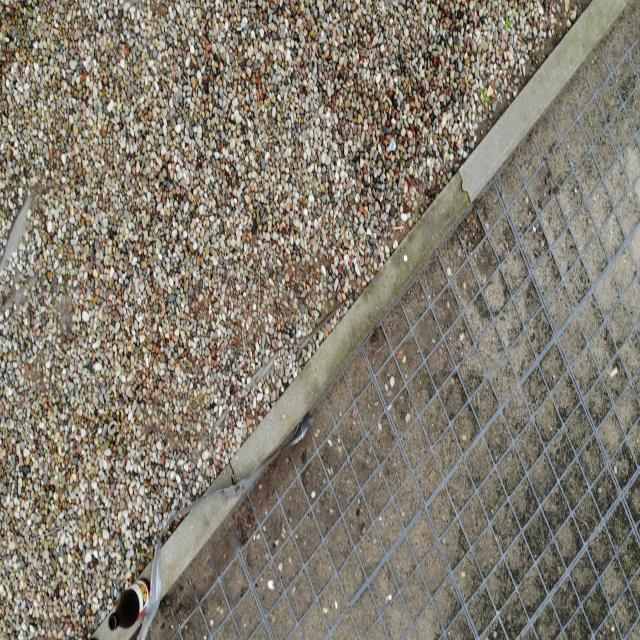rubbish: (109, 578, 150, 631)
